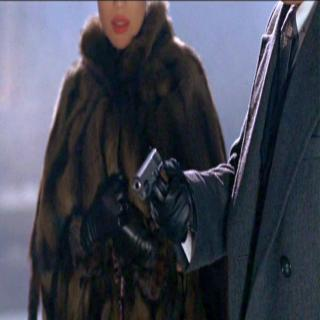gun: (130, 144, 190, 236)
